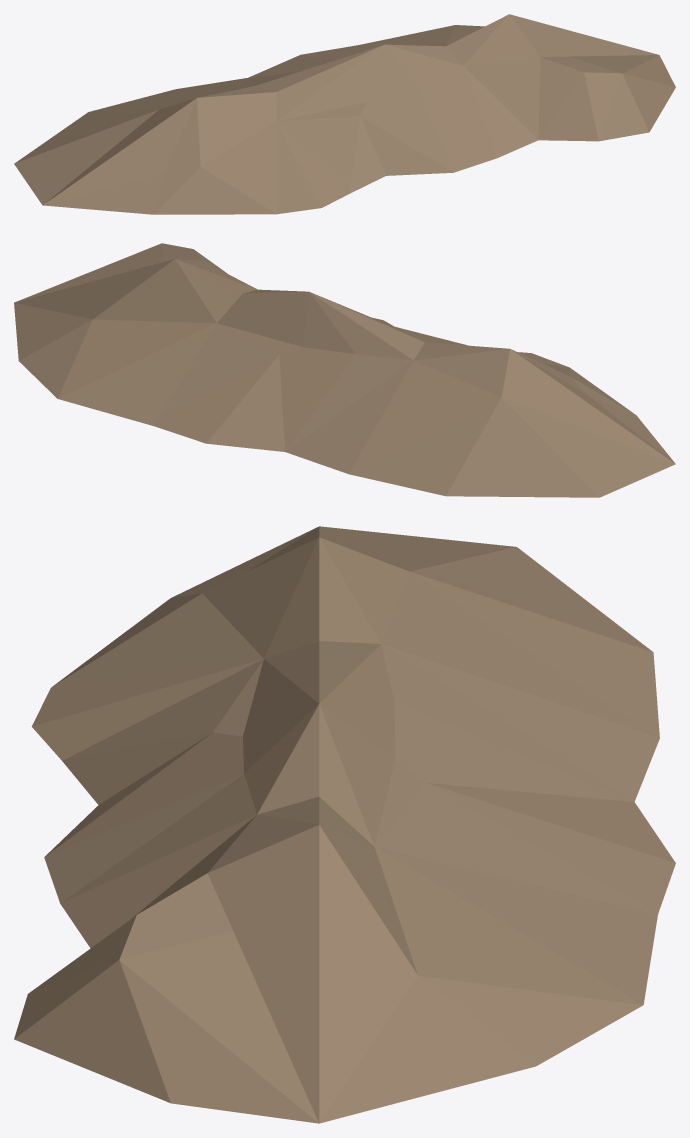
File: SM_Env_SandEdge_05.glb
3 views of the same model, one above another, from view 1: azimuth 30°, elevation 25°; view 2: azimuth 150°, elevation 25°; view 3: azimuth 270°, elevation 25° (orthographic). The views are drawn at different scales.
Visible parts, largest first — view 1: SM_Env_SandEdge_05; view 2: SM_Env_SandEdge_05; view 3: SM_Env_SandEdge_05.
Boxes of the visible parts, x1,y1,x2,y2 form: SM_Env_SandEdge_05: (14, 14, 675, 214); SM_Env_SandEdge_05: (14, 243, 675, 497); SM_Env_SandEdge_05: (14, 526, 675, 1123).
Size of the model in its own units: 8.11 by 0.9723 by 3.8.
Materials: 1 (1 with a texture image).
